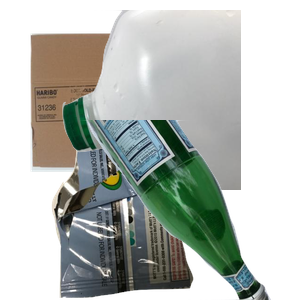cardboard: (28, 31, 249, 195)
glass: (75, 120, 300, 300)
plastic: (60, 10, 300, 190)
trash: (49, 130, 235, 300)
